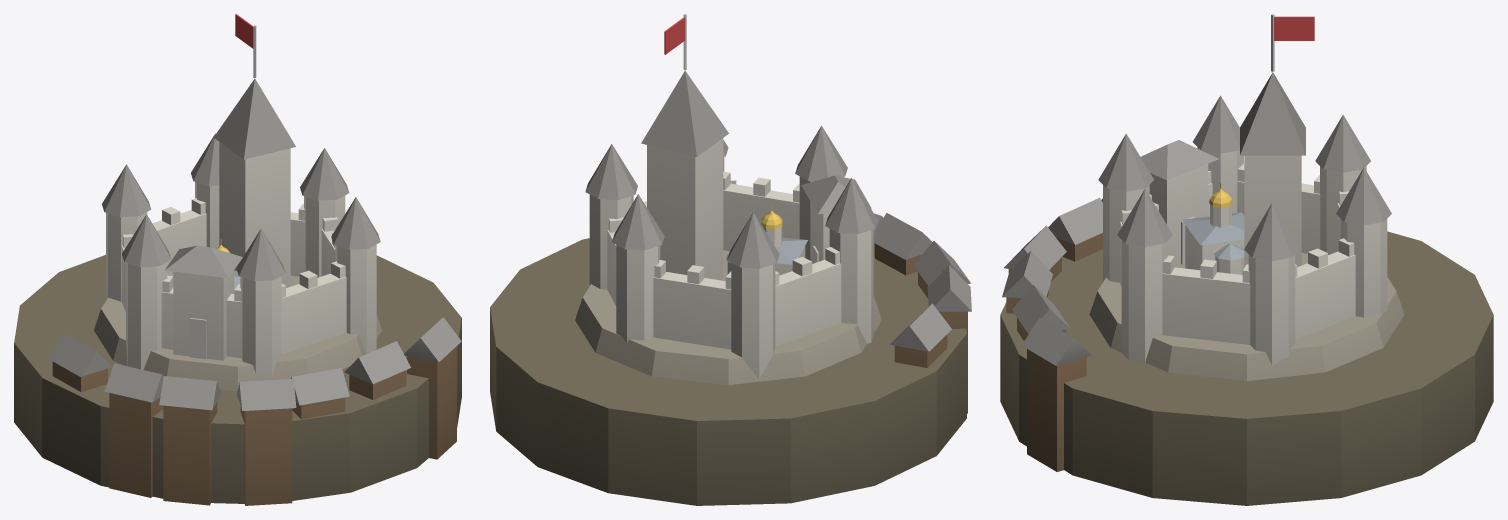
File: castle_rus_b.glb
The picture shows the model from 3 angles, left to right: view 1: azimuth 30°, elevation 25°; view 2: azimuth 150°, elevation 25°; view 3: azimuth 270°, elevation 25°; orthographic projection. The views are drawn at different scales.
Parts seen in each view (by area): view 1: castle_rus_b; view 2: castle_rus_b; view 3: castle_rus_b.
Part boxes in pixels (box(x1,y1,x2,y2)): castle_rus_b: box(14, 14, 461, 505); castle_rus_b: box(490, 14, 971, 505); castle_rus_b: box(1000, 14, 1493, 505).
Size of the model in its own units: 1.9 by 1.71 by 1.9.
